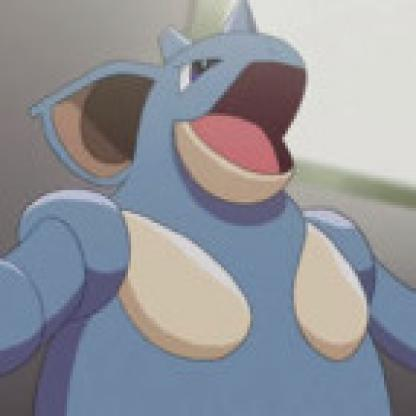Nidoqueen: (13, 16, 414, 414)
